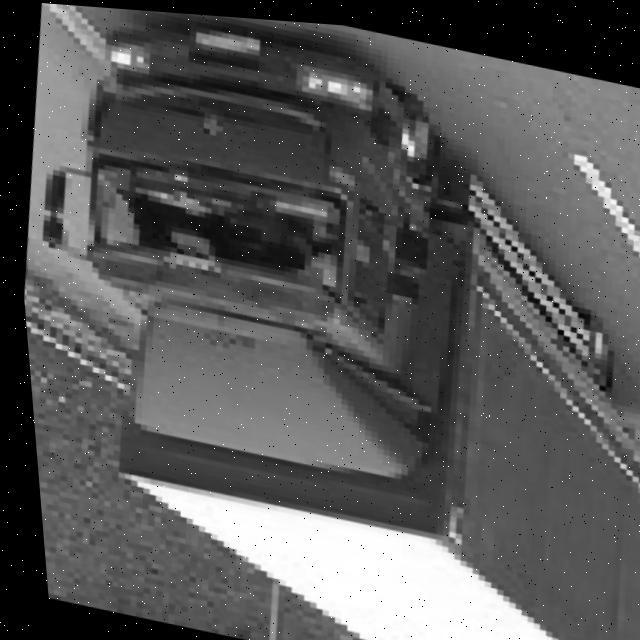truck: (1, 1, 514, 513)
